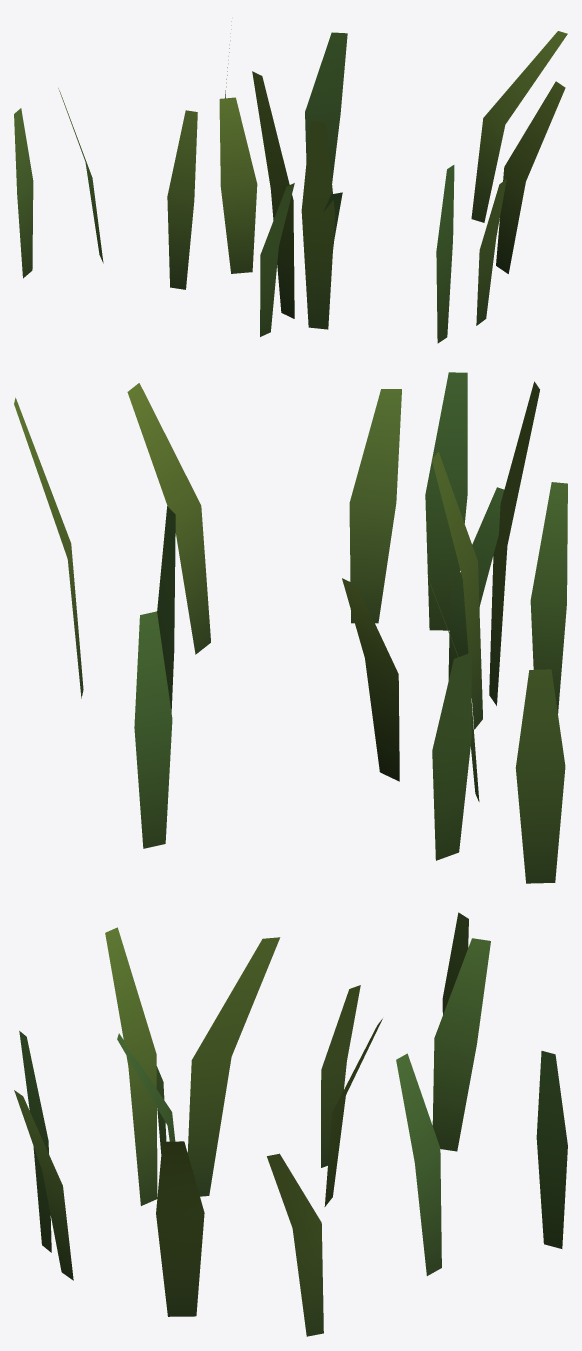
Rendered from grass_tuft_01.glb.
3 renders of one model, top to bottom at view 1: azimuth 30°, elevation 25°; view 2: azimuth 150°, elevation 25°; view 3: azimuth 270°, elevation 25°, orthographic. The views are drawn at different scales.
Parts seen in each view (by area): view 1: grass_tuft_01.blades; view 2: grass_tuft_01.blades; view 3: grass_tuft_01.blades.
Boxes of the visible parts, x1,y1,x2,y2 form: grass_tuft_01.blades: (14, 21, 567, 343); grass_tuft_01.blades: (14, 372, 567, 883); grass_tuft_01.blades: (14, 912, 567, 1336).
Bounding box in the file's own units: 0.1537 × 0.0687 × 0.1311.
